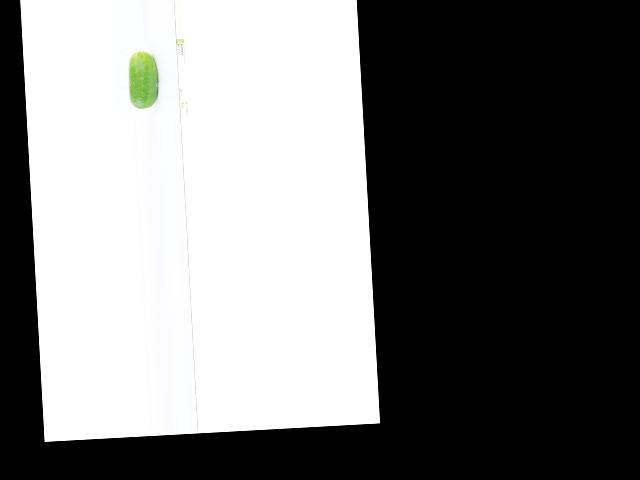cucumber: (127, 50, 159, 109)
